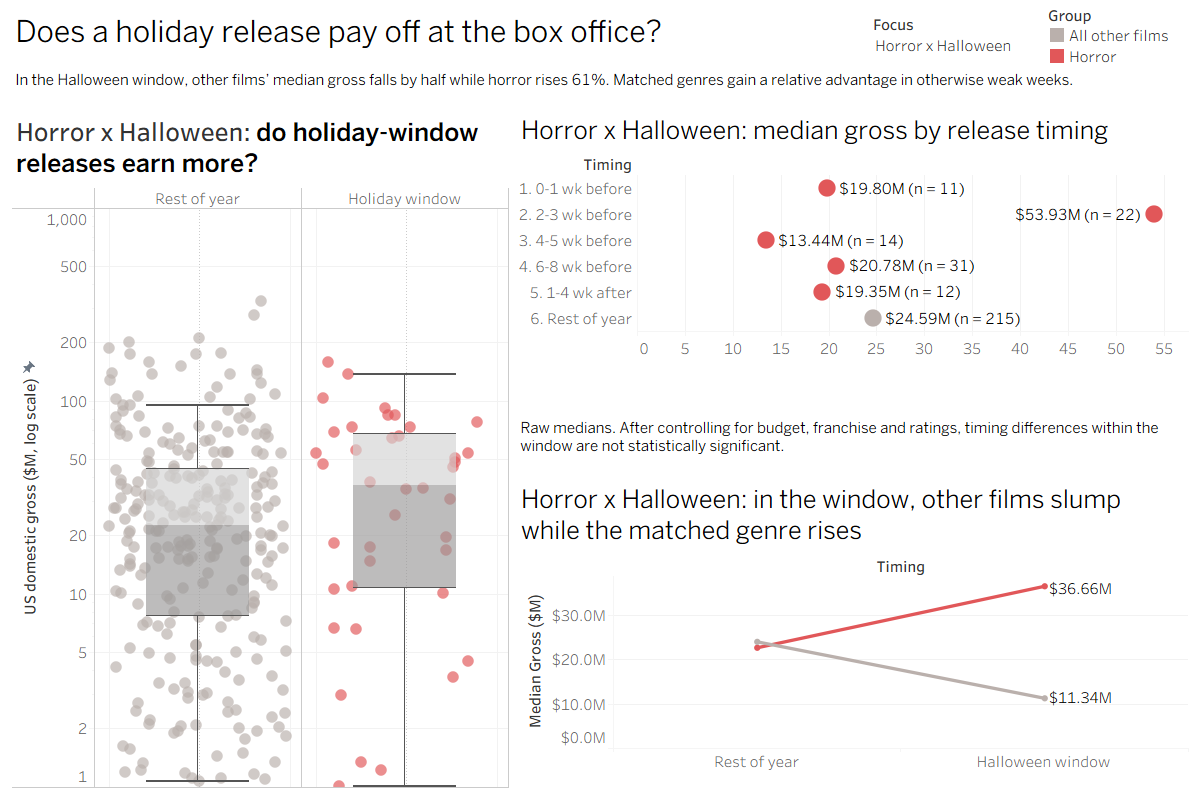

The dashboard page shown, as its layout file describes it:
{"tool":"tableau","page":{"name":"2. Box Office","canvas":[1200,800],"ordinal":1},"visuals":[{"type":"legend","title":"Who Gains","param":"[federated.1dxgzci1dfg3yk11arq2800d7fgo].[none:Group:nk]","box":[1047,3,140,64]},{"type":"title","box":[8,8,1184,46]},{"type":"parameter","param":"[Parameters].[Parameter 0638599452475392]","box":[873,13,160,48]},{"type":"text","box":[8,54,1184,50]},{"type":"worksheet","title":"Gross by Window","mark":"Circle","rows":["Domestic Gross ($M)"],"cols":["Calculation_0638599460020227","Calculation_0638599460085765"],"box":[8,104,505.3,688]},{"type":"worksheet","title":"Release Timing","mark":"Circle","rows":["Calculation_0638599460052996"],"cols":["Domestic Gross ($M)"],"box":[513.3,104,678.7,296]},{"type":"text","box":[513.3,400,678.7,73]},{"type":"worksheet","title":"Who Gains","mark":"Line","rows":["Median Gross ($M)"],"cols":["Timing"],"box":[513.3,473,678.7,319]}]}

Visuals, with their boxes in screenshot pixels (x1, y1, x2, y2), scaled from the page's 1200x800 canvas onto the 1200x800 screenshot:
"Who Gains" legend: bbox=(1047, 3, 1187, 67)
title: bbox=(8, 8, 1192, 54)
parameter: bbox=(873, 13, 1033, 61)
text: bbox=(8, 54, 1192, 104)
"Gross by Window" worksheet (Circle marks): bbox=(8, 104, 513, 792)
"Release Timing" worksheet (Circle marks): bbox=(513, 104, 1192, 400)
text: bbox=(513, 400, 1192, 473)
"Who Gains" worksheet (Line marks): bbox=(513, 473, 1192, 792)
